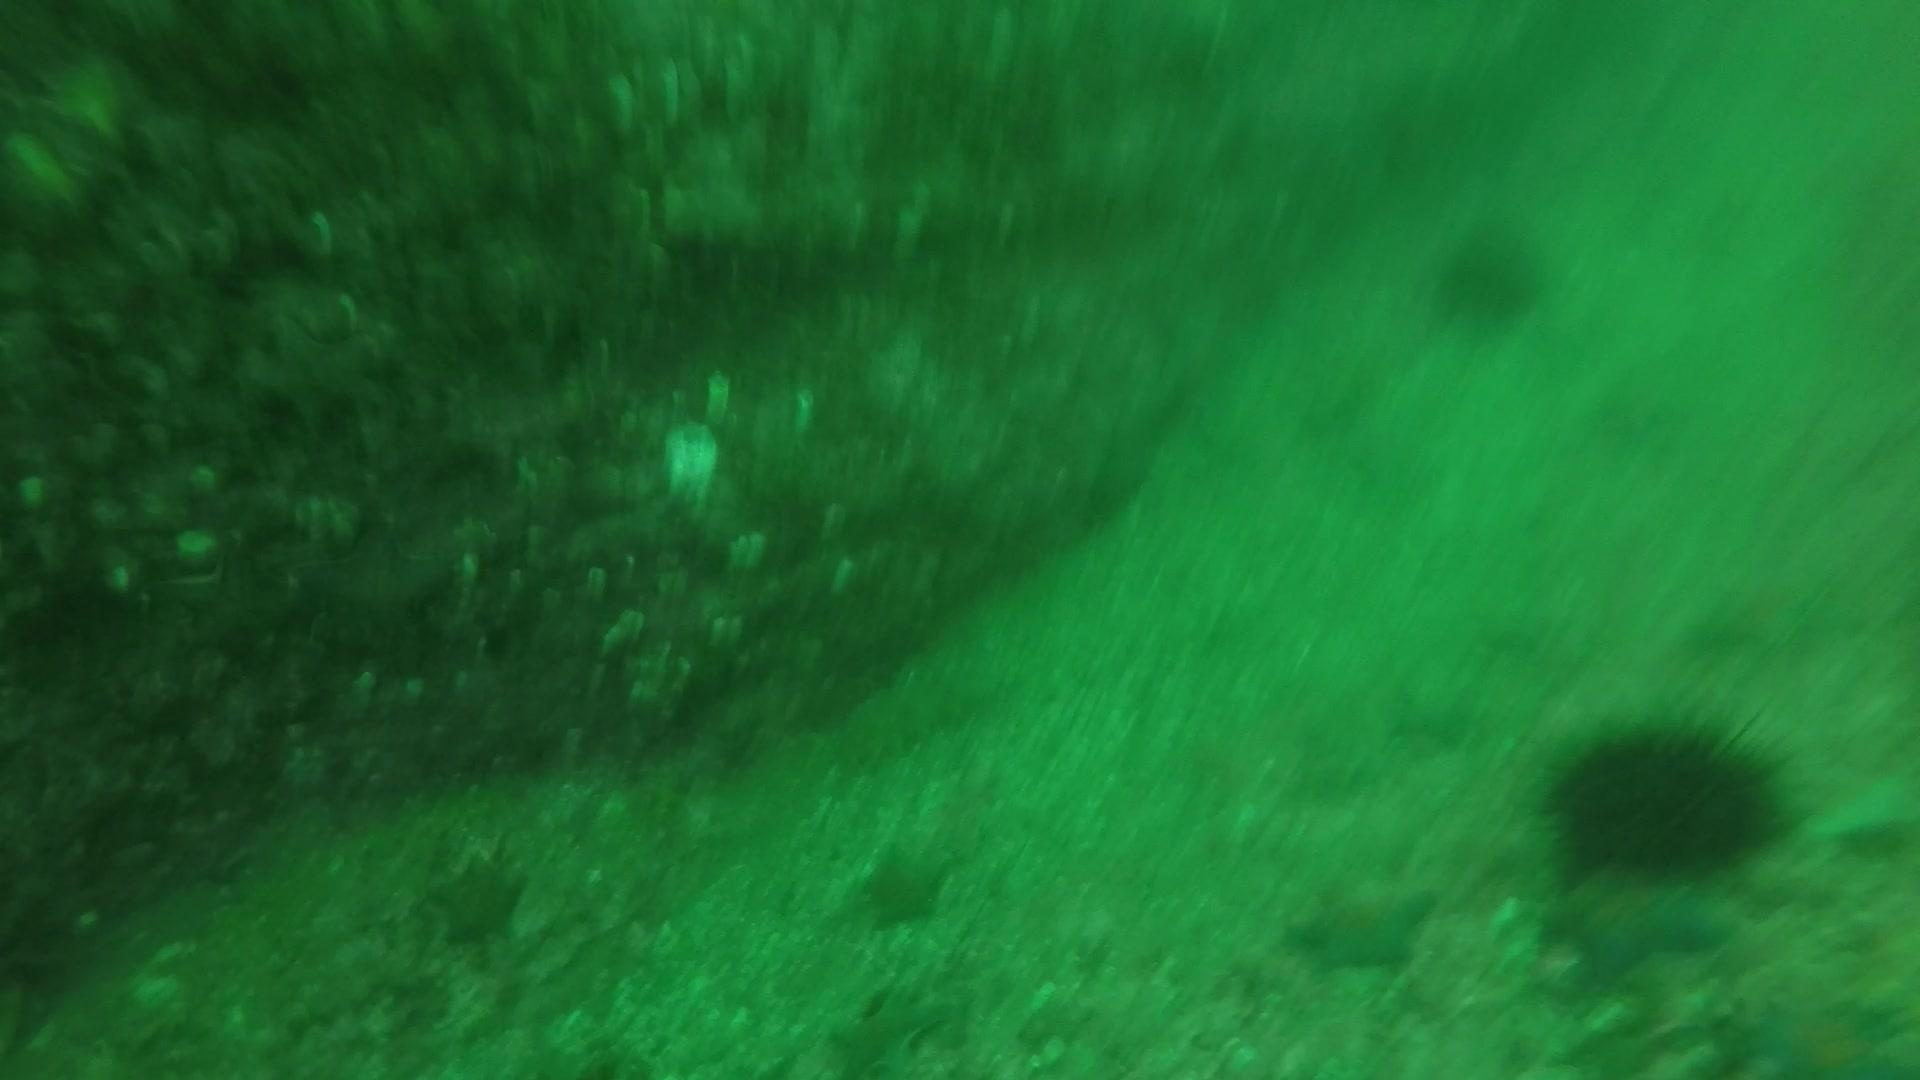echinus: (1538, 708, 1793, 886), (1428, 218, 1551, 334)
holothurian: (829, 661, 986, 773)
starfish: (1536, 865, 1737, 988), (1282, 870, 1441, 978), (1735, 984, 1915, 1075), (820, 980, 955, 1076), (419, 845, 533, 952), (855, 841, 955, 934)
